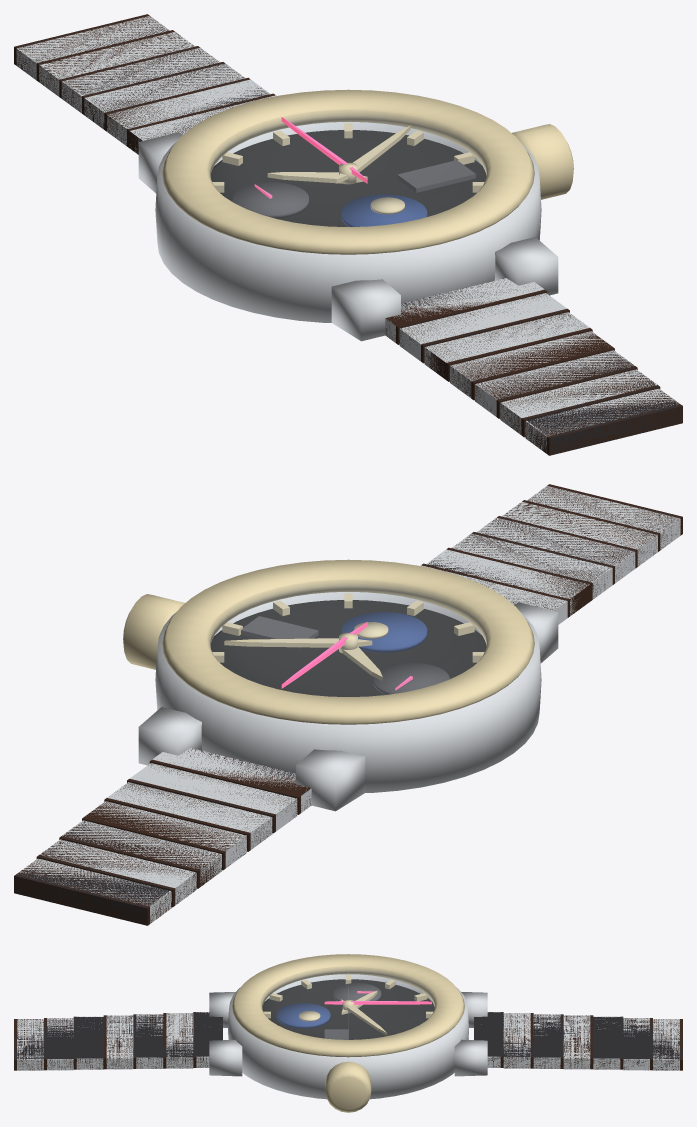
Rendered from watch.glb.
3 renders of one model, top to bottom at view 1: azimuth 30°, elevation 25°; view 2: azimuth 150°, elevation 25°; view 3: azimuth 270°, elevation 25°, orthographic. The views are drawn at different scales.
Parts seen in each view (by area): view 1: StrapBracelet, StrapLeather, Bezel, Crystal, Case, Dial, StrapRubber, Lug, CrownKnurl, Lug.002, ComplicationPowerReserve, ComplicationMoon (+4 smaller); view 2: StrapBracelet, StrapLeather, Bezel, Crystal, Case, Dial, StrapRubber, Lug.001, CrownKnurl, Lug.003, ComplicationMoon, ComplicationPowerReserve (+3 smaller); view 3: StrapRubber, StrapBracelet, Bezel, Case, Crystal, StrapLeather, Dial, CrownKnurl, Lug.002, Lug.003, ComplicationMoon, ComplicationPowerReserve (+5 smaller).
Boxes of the visible parts, left/top/right/bottom form: StrapBracelet: left=16, top=16, right=680, bottom=453; StrapLeather: left=14, top=14, right=682, bottom=455; Bezel: left=162, top=89, right=534, bottom=254; Crystal: left=210, top=115, right=486, bottom=226; Case: left=155, top=122, right=541, bottom=322; Dial: left=210, top=130, right=486, bottom=226; StrapRubber: left=16, top=16, right=681, bottom=454; Lug: left=331, top=279, right=400, bottom=341; CrownKnurl: left=512, top=124, right=573, bottom=199; Lug.002: left=494, top=237, right=558, bottom=295; ComplicationPowerReserve: left=232, top=182, right=308, bottom=218; ComplicationMoon: left=341, top=194, right=427, bottom=226; StrapBracelet: left=17, top=486, right=680, bottom=923; StrapLeather: left=14, top=484, right=682, bottom=925; Bezel: left=162, top=559, right=534, bottom=724; Crystal: left=210, top=585, right=486, bottom=696; Case: left=155, top=592, right=541, bottom=792; Dial: left=210, top=600, right=486, bottom=696; StrapRubber: left=15, top=492, right=680, bottom=925; Lug.001: left=296, top=749, right=365, bottom=811; CrownKnurl: left=123, top=594, right=184, bottom=669; Lug.003: left=138, top=707, right=202, bottom=765; ComplicationMoon: left=341, top=612, right=427, bottom=652; ComplicationPowerReserve: left=373, top=662, right=449, bottom=694; StrapRubber: left=14, top=1012, right=682, bottom=1059; StrapBracelet: left=17, top=1012, right=679, bottom=1070; Bezel: left=232, top=954, right=464, bottom=1057; Case: left=228, top=974, right=468, bottom=1099; Crystal: left=262, top=969, right=434, bottom=1039; StrapLeather: left=14, top=1012, right=682, bottom=1070; Dial: left=262, top=979, right=434, bottom=1039; CrownKnurl: left=325, top=1061, right=371, bottom=1112; Lug.002: left=209, top=1039, right=242, bottom=1076; Lug.003: left=454, top=1039, right=487, bottom=1076; ComplicationMoon: left=276, top=1003, right=330, bottom=1028; ComplicationPowerReserve: left=333, top=983, right=381, bottom=1005.
Bounding box in the file's own units: 4.57 × 1.25 × 11.2.
